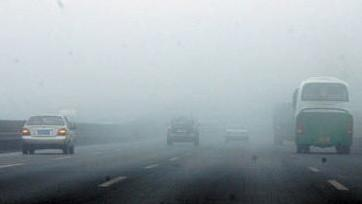bus: (291, 76, 355, 156), (271, 101, 314, 148)
car: (19, 112, 76, 156), (167, 117, 201, 145), (223, 123, 249, 143)
